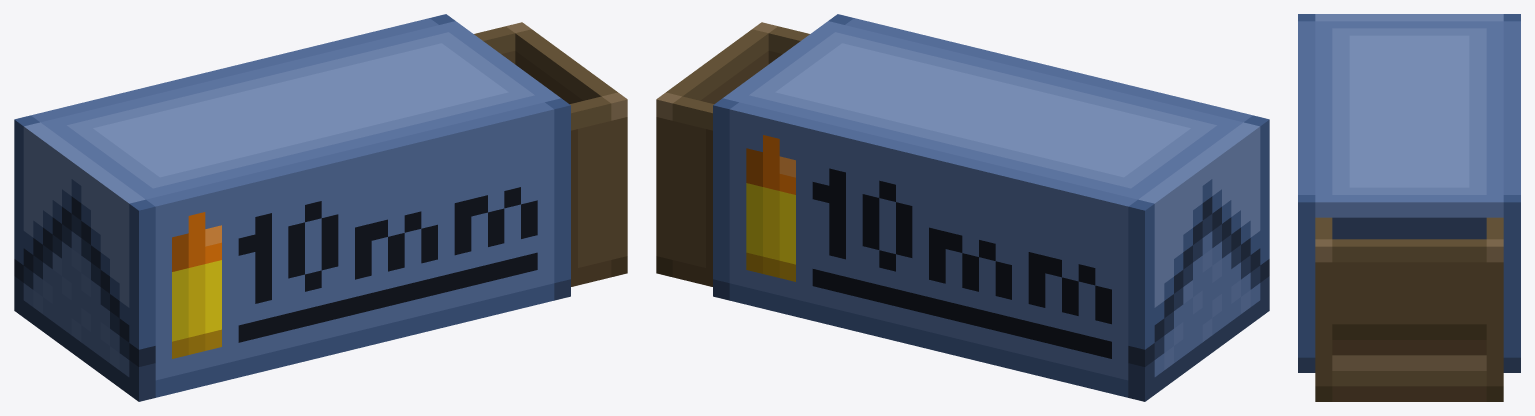
Rendered from 10mmVbxE.obj.
3 views of the same model, side by side, from view 1: azimuth 30°, elevation 25°; view 2: azimuth 150°, elevation 25°; view 3: azimuth 270°, elevation 25° (orthographic). The views are drawn at different scales.
Visible parts, largest first — view 1: 10box; view 2: 10box; view 3: 10box.
Part boxes in pixels (<box>): 10box: <box>14,14,627,401</box>; 10box: <box>656,14,1269,401</box>; 10box: <box>1298,14,1520,401</box>.
Bounding box in the file's own units: 3 × 1.1 × 1.3.
Materials: 1 (1 with a texture image).
